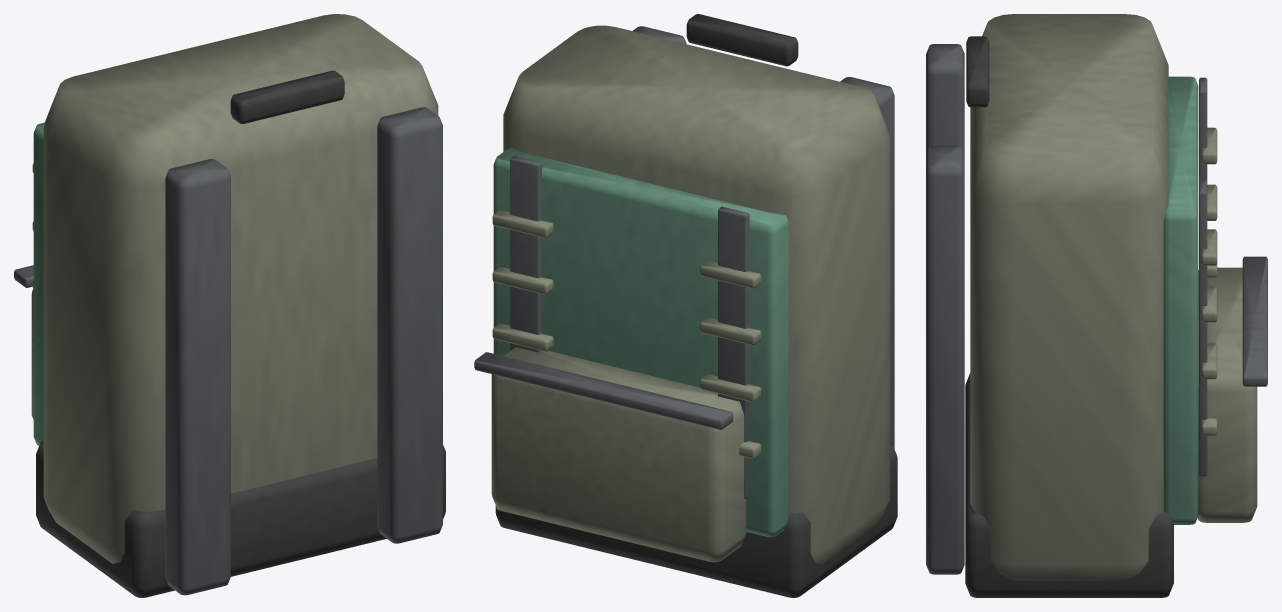
The model's file is backpack.glb.
3 renders of one model, left to right at view 1: azimuth 30°, elevation 25°; view 2: azimuth 150°, elevation 25°; view 3: azimuth 270°, elevation 25°, orthographic. The views are drawn at different scales.
Parts seen in each view (by area): view 1: VIS_MainPack_Cordura, VIS_PaddedShoulderStrap_-0.115, VIS_PaddedShoulderStrap_0.115, VIS_BottomWearPanel, VIS_GrabHandle, VIS_FaceCompressionPanel; view 2: VIS_MainPack_Cordura, VIS_FaceCompressionPanel, VIS_FrontPocket, VIS_BottomWearPanel, VIS_ZipperRail, VIS_MolleColumn_-0.115, VIS_MolleColumn_0.115, VIS_GrabHandle, VIS_PaddedShoulderStrap_-0.115, VIS_MolleLoop_0.115_1, VIS_MolleLoop_-0.115_1, VIS_MolleLoop_-0.115_2 (+3 smaller); view 3: VIS_MainPack_Cordura, VIS_PaddedShoulderStrap_0.115, VIS_FaceCompressionPanel, VIS_FrontPocket, VIS_BottomWearPanel, VIS_PaddedShoulderStrap_-0.115, VIS_ZipperRail, VIS_MolleColumn_0.115, VIS_GrabHandle, VIS_MolleColumn_-0.115, VIS_MolleLoop_0.115_1, VIS_MolleLoop_-0.115_3 (+2 smaller).
Boxes of the visible parts, bbox=[...] form: VIS_MainPack_Cordura: bbox=[43, 14, 438, 563]; VIS_PaddedShoulderStrap_-0.115: bbox=[165, 159, 230, 595]; VIS_PaddedShoulderStrap_0.115: bbox=[377, 107, 442, 543]; VIS_BottomWearPanel: bbox=[36, 440, 445, 597]; VIS_GrabHandle: bbox=[230, 70, 344, 123]; VIS_FaceCompressionPanel: bbox=[33, 122, 44, 445]; VIS_MainPack_Cordura: bbox=[503, 25, 889, 564]; VIS_FaceCompressionPanel: bbox=[493, 148, 789, 537]; VIS_FrontPocket: bbox=[491, 347, 746, 562]; VIS_BottomWearPanel: bbox=[495, 443, 897, 597]; VIS_ZipperRail: bbox=[474, 352, 733, 429]; VIS_MolleColumn_-0.115: bbox=[718, 206, 749, 498]; VIS_MolleColumn_0.115: bbox=[510, 156, 541, 352]; VIS_GrabHandle: bbox=[686, 14, 798, 66]; VIS_PaddedShoulderStrap_-0.115: bbox=[840, 77, 894, 448]; VIS_MolleLoop_0.115_1: bbox=[492, 323, 553, 351]; VIS_MolleLoop_-0.115_1: bbox=[700, 374, 761, 402]; VIS_MolleLoop_-0.115_2: bbox=[700, 317, 761, 345]; VIS_MainPack_Cordura: bbox=[970, 14, 1168, 580]; VIS_PaddedShoulderStrap_0.115: bbox=[926, 145, 964, 574]; VIS_FaceCompressionPanel: bbox=[1163, 76, 1198, 524]; VIS_FrontPocket: bbox=[1197, 267, 1257, 522]; VIS_BottomWearPanel: bbox=[965, 373, 1173, 597]; VIS_PaddedShoulderStrap_-0.115: bbox=[926, 44, 964, 154]; VIS_ZipperRail: bbox=[1242, 256, 1267, 386]; VIS_MolleColumn_0.115: bbox=[1199, 179, 1207, 476]; VIS_GrabHandle: bbox=[966, 36, 989, 107]; VIS_MolleColumn_-0.115: bbox=[1199, 77, 1207, 180]; VIS_MolleLoop_0.115_1: bbox=[1201, 342, 1217, 379]; VIS_MolleLoop_-0.115_3: bbox=[1201, 127, 1217, 164].
Size of the model in its own units: 0.355 by 0.491 by 0.3275.
4 materials, 4 textured.
